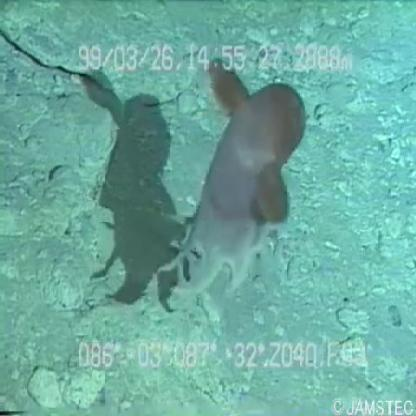Bio: (153, 52, 310, 320)
